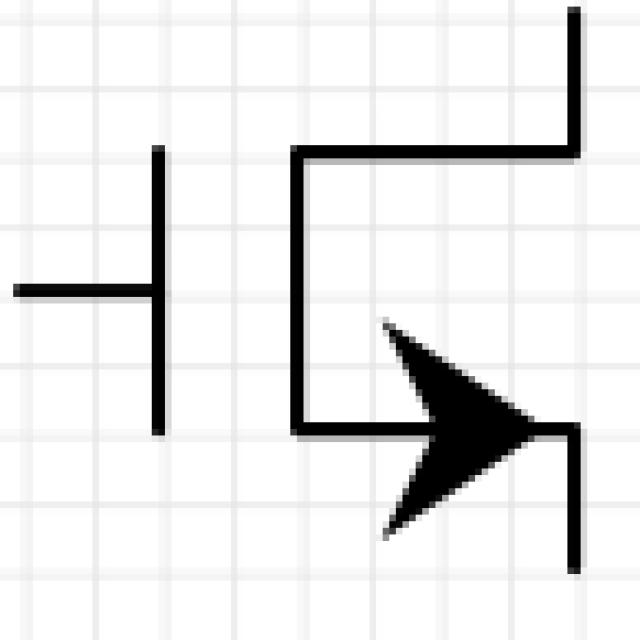nmos: (33, 20, 640, 579)
